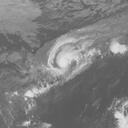cyclone: (42, 35, 93, 81)
